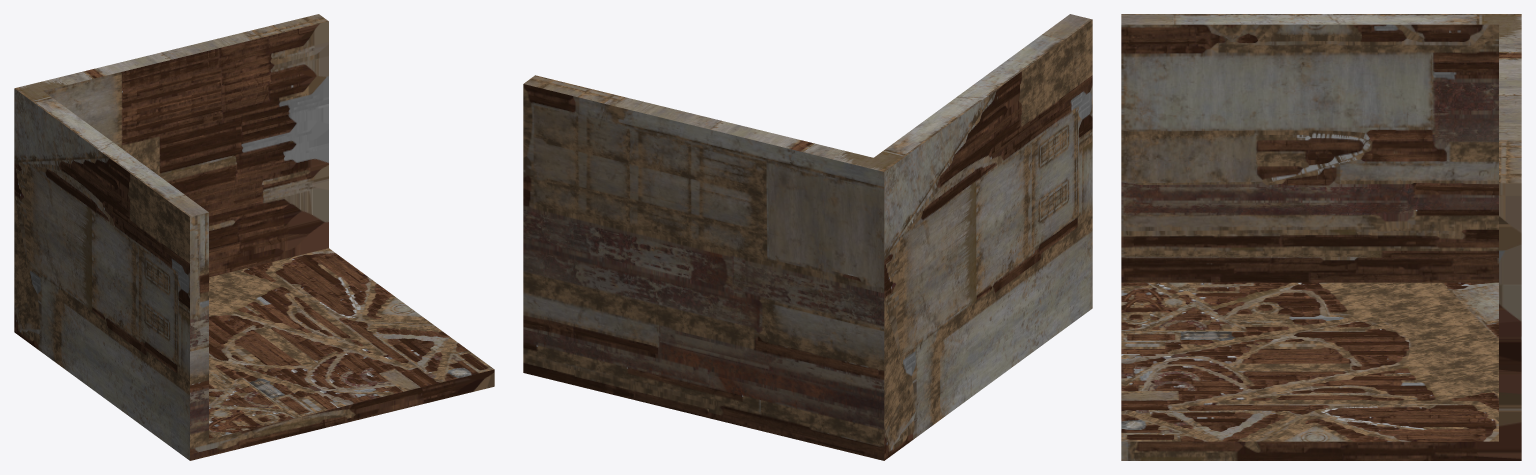
File: Room.fbx
The picture shows the model from 3 angles, left to right: view 1: azimuth 30°, elevation 25°; view 2: azimuth 150°, elevation 25°; view 3: azimuth 270°, elevation 25°; orthographic projection. The views are drawn at different scales.
Visible parts, largest first — view 1: Cube; view 2: Cube; view 3: Cube.
Part boxes in pixels (bbox=[...]): Cube: bbox=[14, 14, 494, 460]; Cube: bbox=[523, 14, 1092, 460]; Cube: bbox=[1121, 14, 1521, 460].
Size of the model in its own units: 148 by 113 by 148.
Materials: 1 (1 with a texture image).
